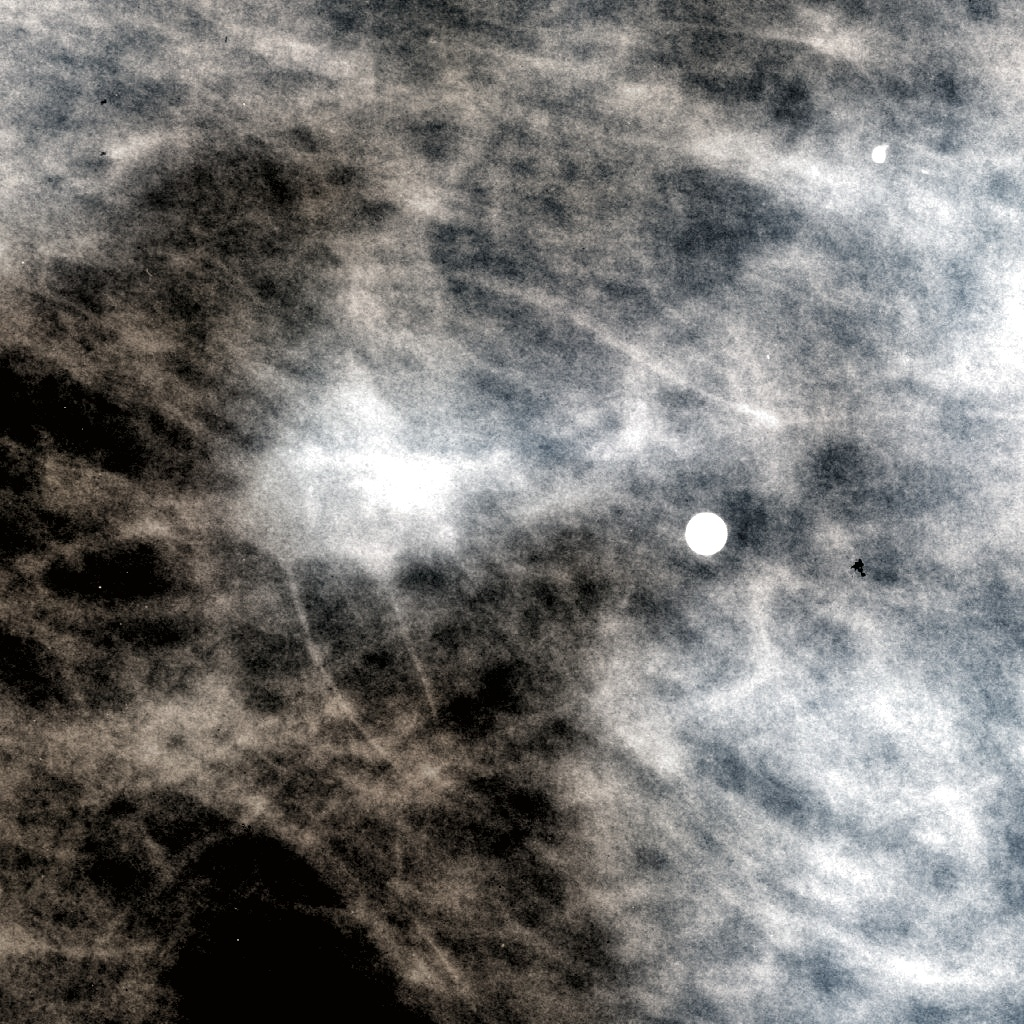tumor: (271, 386, 487, 638)
